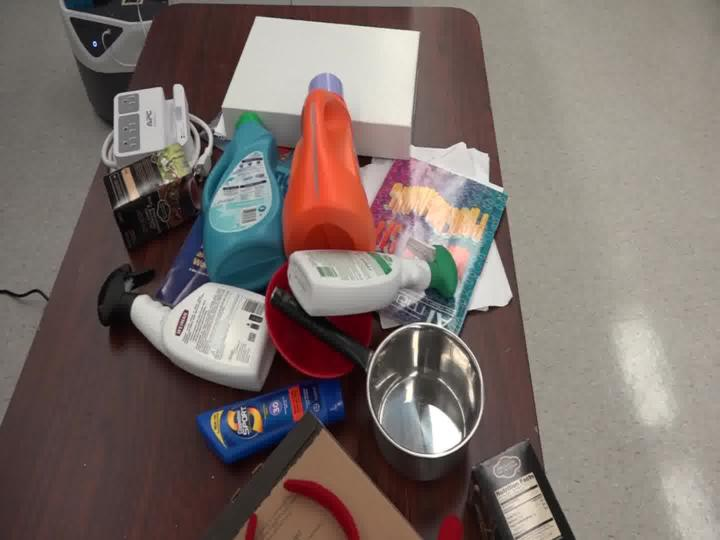tide: (273, 55, 401, 270)
